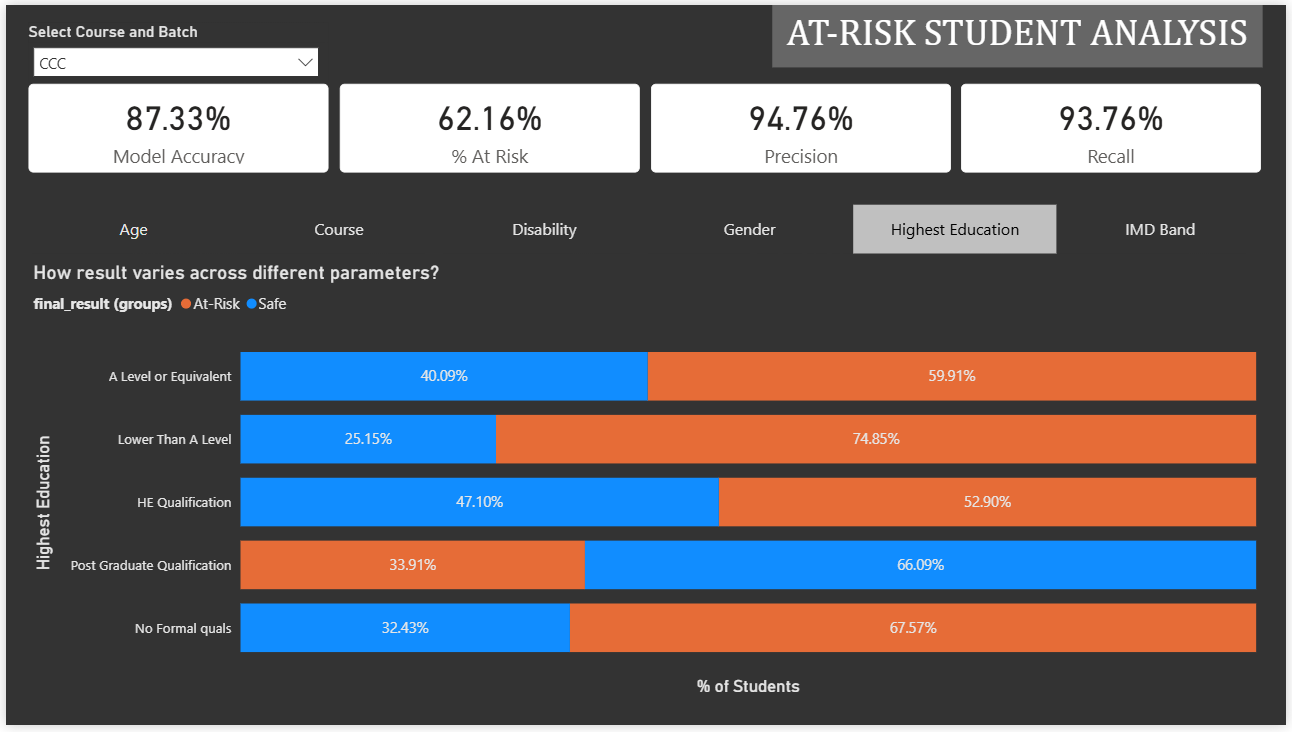

Layout of this report page (visuals, bound fields, positions):
{"tool":"powerbi","page":{"name":"At-Risk Prediction","canvas":[1280,720],"ordinal":3},"visuals":[{"type":"textbox","box":[766.2,0,490,62.5],"z":0},{"type":"card","fields":{"Values":["Avg(public prediction_data.model_accuracy)"]},"box":[22.9,78.6,300,88.6],"z":0,"group":"g1"},{"type":"card","fields":{"Values":["public prediction_data.% At Risk"]},"box":[333.9,78.6,300,88.6],"z":1000,"group":"g1"},{"type":"hundredPercentStackedBarChart","title":"How result varies across different parameters?","fields":{"Category":["public student_all_details.highest_education"],"Y":["CountNonNull(public prediction_data.id_student)"],"Series":["public prediction_data.final_result (groups)"]},"box":[22.9,255.7,1232.9,438.6],"z":1000},{"type":"card","fields":{"Values":["public prediction_data.Precision"]},"box":[644.8,78.6,300,88.6],"z":2000,"group":"g1"},{"type":"slicer","fields":{"Values":["Parameter.Parameter"]},"box":[0,192.9,1280,62.9],"z":2000},{"type":"group","id":"g1","title":"Group 1","box":[22.9,78.6,1232.9,88.6],"z":3000},{"type":"card","fields":{"Values":["public prediction_data.Recall"]},"box":[955.8,78.6,300,88.6],"z":3000,"group":"g1"},{"type":"slicer","title":"Select Course and Batch","fields":{"Values":["public student_all_details.Course drill-down.Course","public student_all_details.Course drill-down.Batch"]},"box":[22.5,17.5,300,60],"z":4000}]}

Visuals, with their boxes in screenshot pixels (x1, y1, x2, y2), scaled from the page's 1280x720 canvas onto the 1292x732 screenshot:
textbox: [773,0,1268,64]
card - Avg(public prediction_data.model_accuracy): [23,80,326,170]
card - public prediction_data.% At Risk: [337,80,640,170]
"How result varies across different parameters?" hundredPercentStackedBarChart: [23,260,1268,706]
card - public prediction_data.Precision: [651,80,954,170]
slicer - Parameter.Parameter: [0,196,1291,260]
"Group 1" group: [23,80,1268,170]
card - public prediction_data.Recall: [965,80,1268,170]
"Select Course and Batch" slicer: [23,18,326,79]
